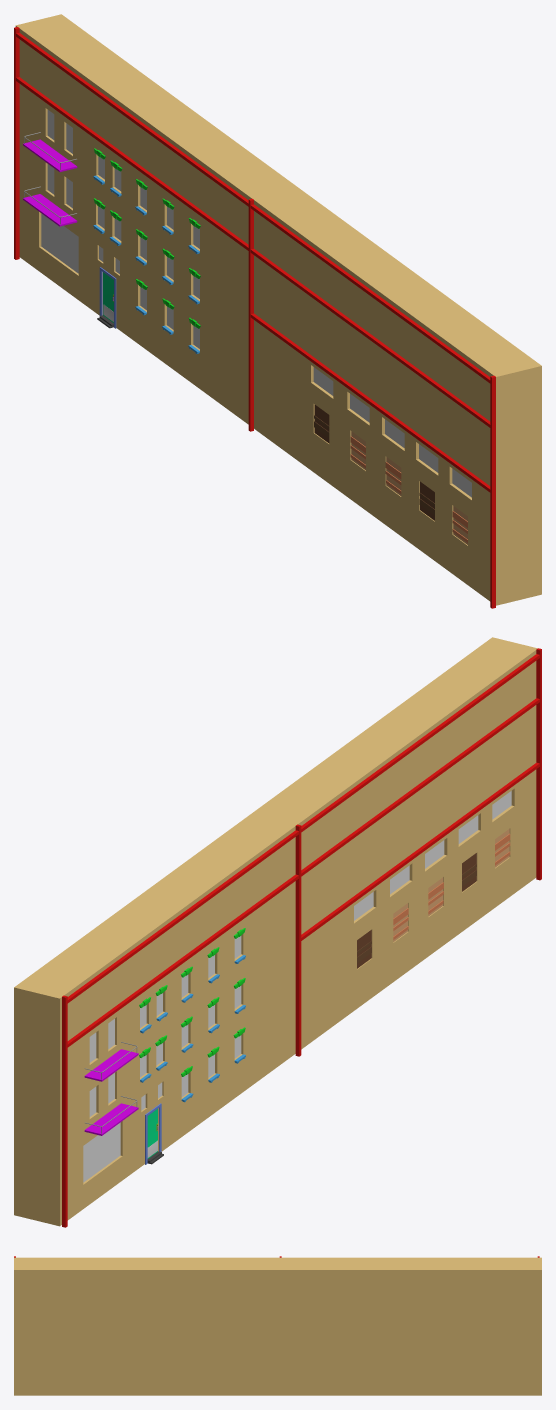
File: Alleyway_Wall_Right.fbx
3 renders of one model, top to bottom at view 1: azimuth 30°, elevation 25°; view 2: azimuth 150°, elevation 25°; view 3: azimuth 270°, elevation 25°, orthographic. The views are drawn at different scales.
Visible parts, largest first — view 1: Alley_Wall_Right; view 2: Alley_Wall_Right; view 3: Alley_Wall_Right.
Part boxes in pixels (left/top/right/bottom): Alley_Wall_Right: left=14, top=14, right=541, bottom=608; Alley_Wall_Right: left=14, top=637, right=541, bottom=1227; Alley_Wall_Right: left=14, top=1256, right=541, bottom=1395.
Bounding box in the file's own units: 276 × 959 × 3616.
